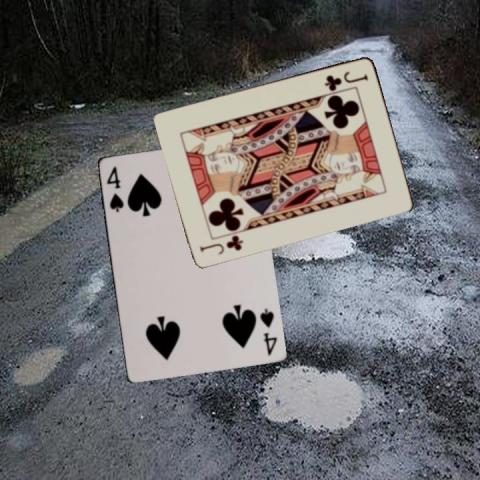4s: (256, 304, 278, 357), (104, 163, 126, 213)
Jc: (197, 231, 245, 256), (322, 68, 370, 90)
